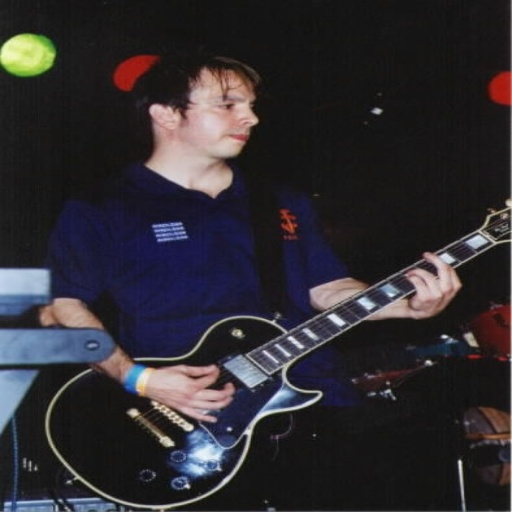hand: (140, 367, 233, 424), (401, 252, 466, 320)
